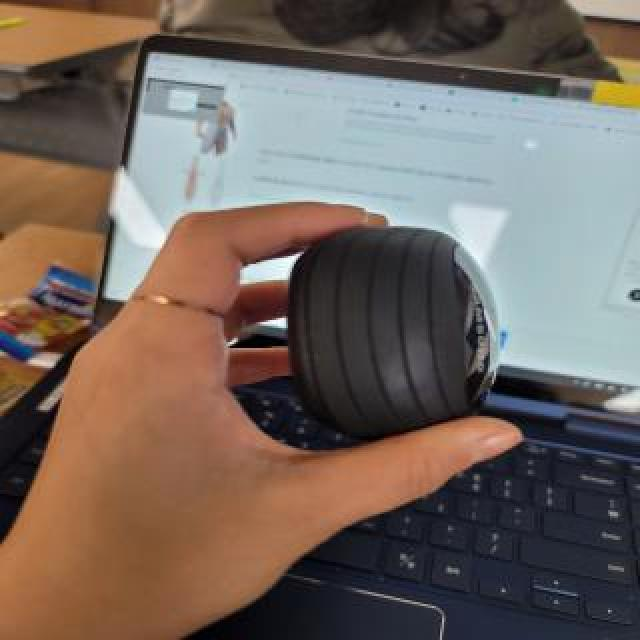laptop_computer: (92, 16, 640, 640)
mouse: (270, 221, 535, 455)
